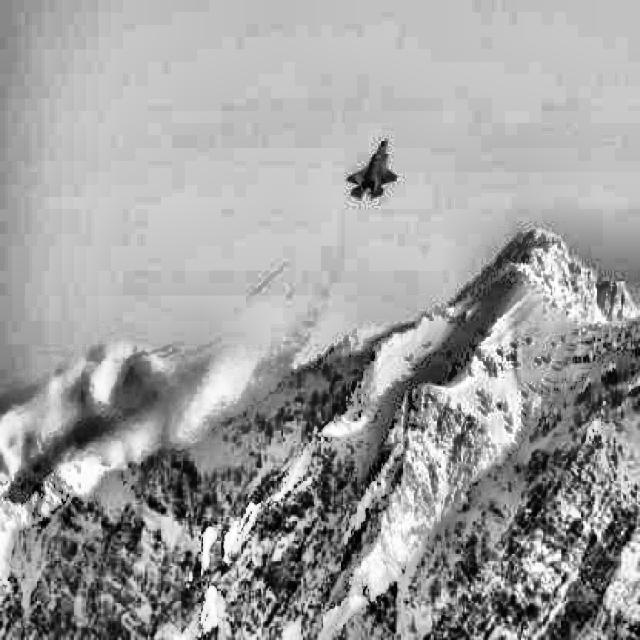F35: (345, 137, 398, 200)
